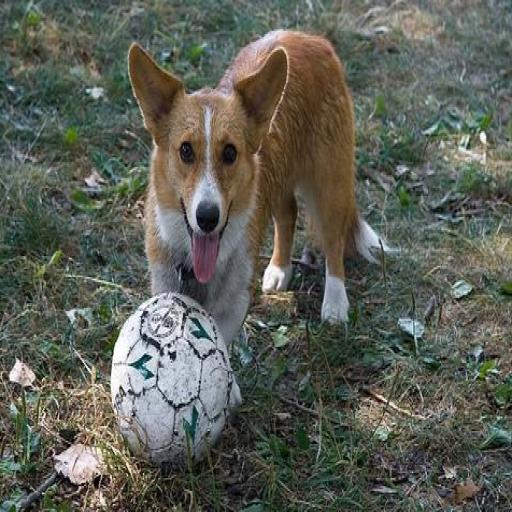dog_face: (130, 45, 289, 258)
